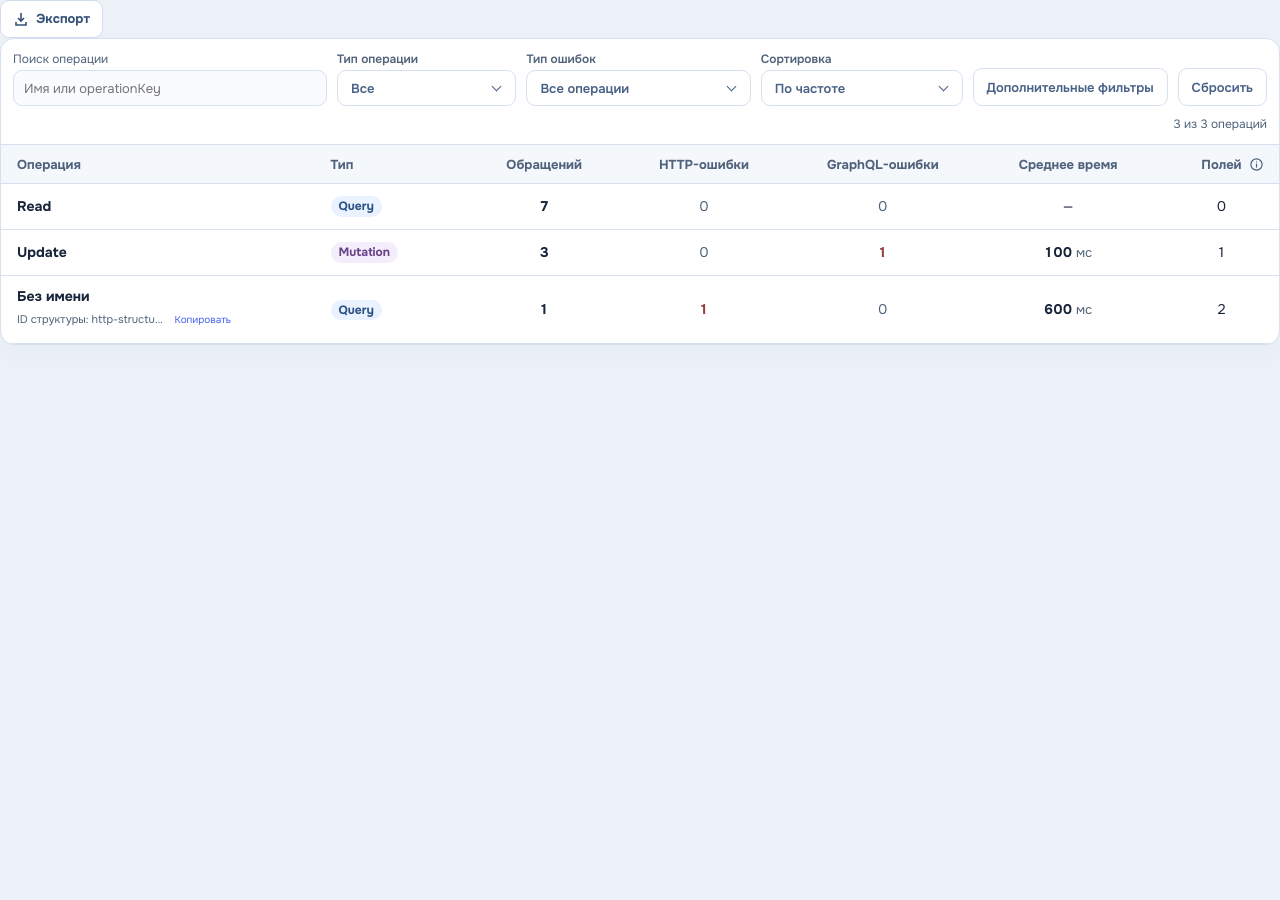
blocks incompatible filtered exports, explains the limitation and permits unfiltered exports
Click the dropdown labelled "Все операции" at (639, 88), box [526,70,751,106]
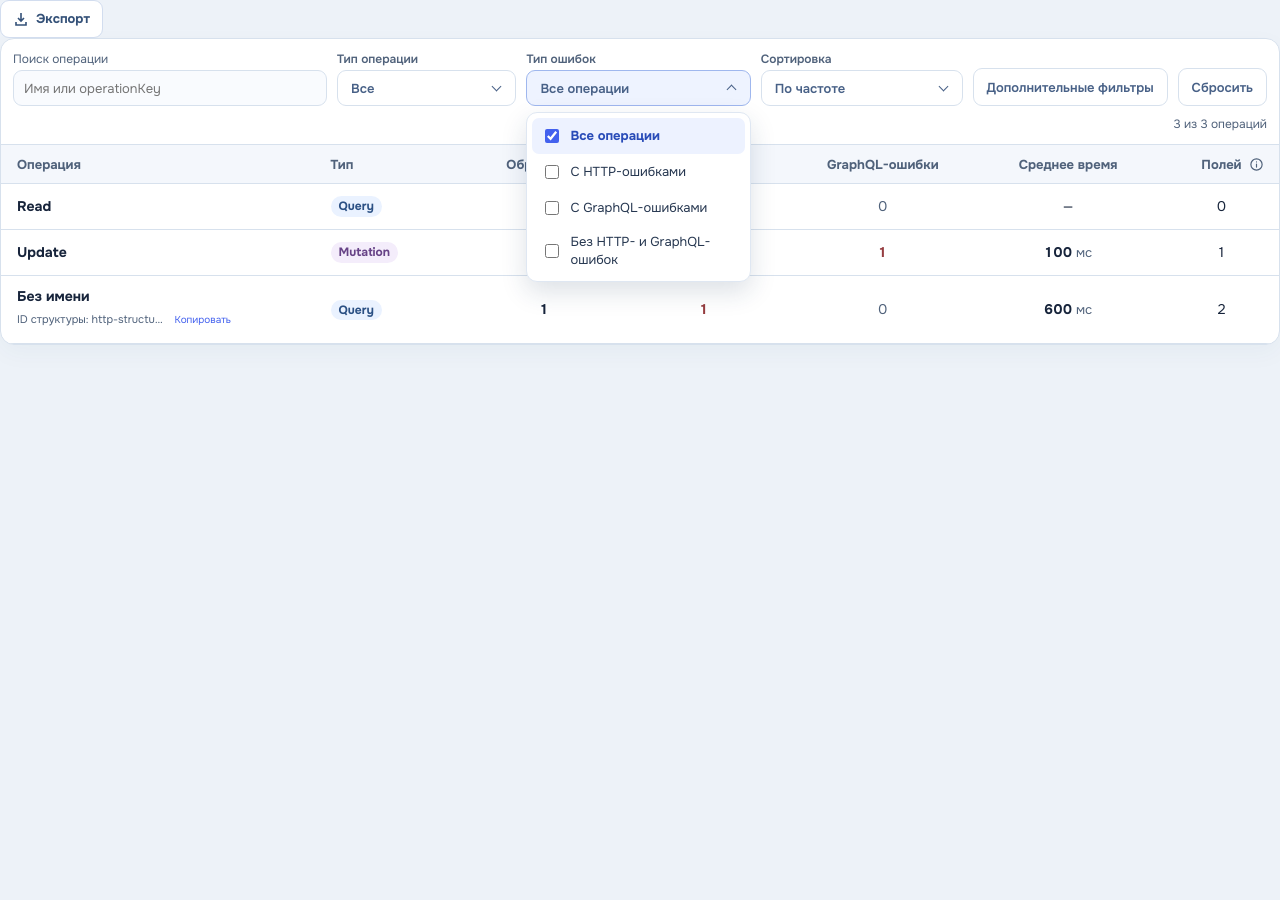
Click the option "С HTTP-ошибками" at (616, 171), box [545,163,686,180]
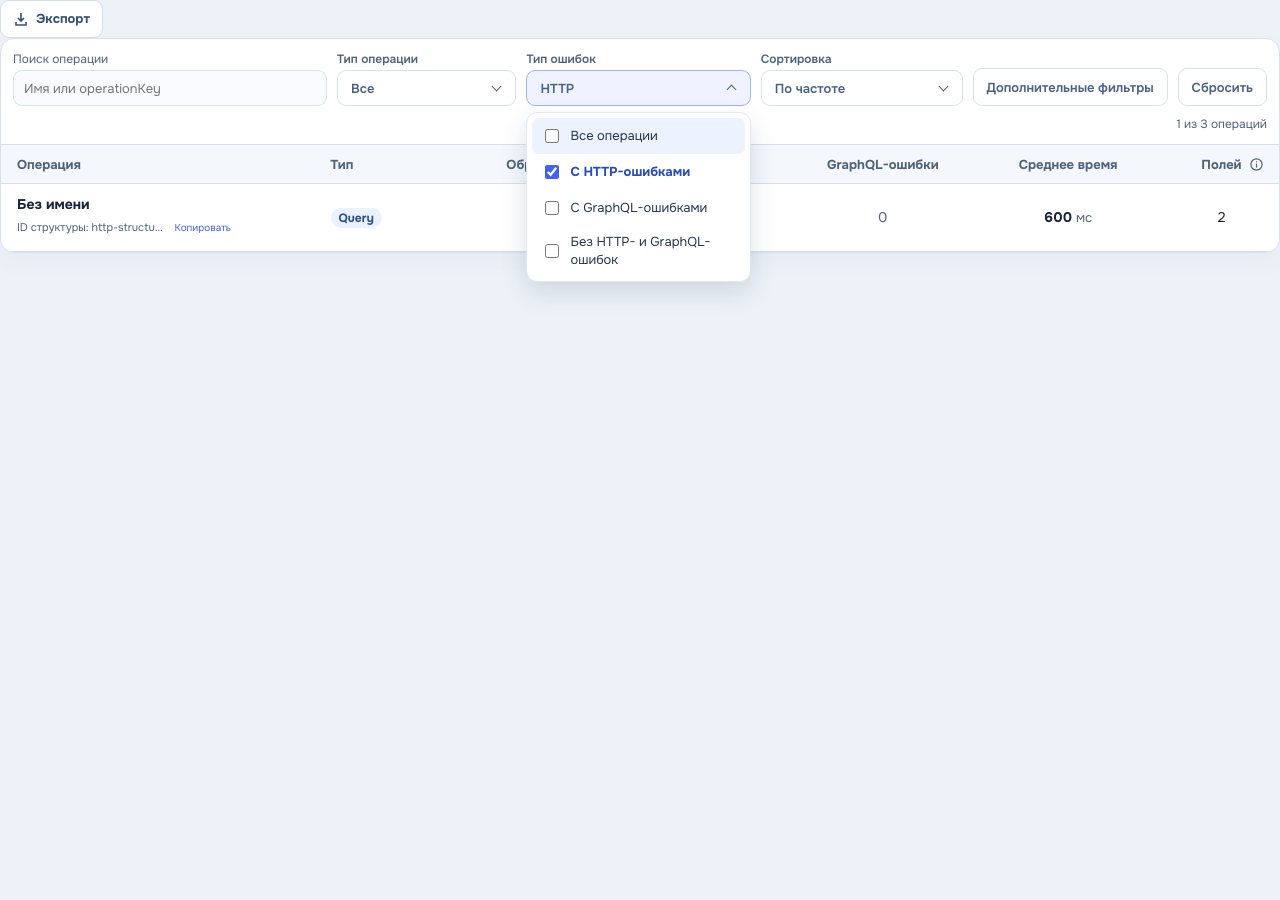
Press Escape in the dropdown labelled "HTTP", box [526,70,751,106]
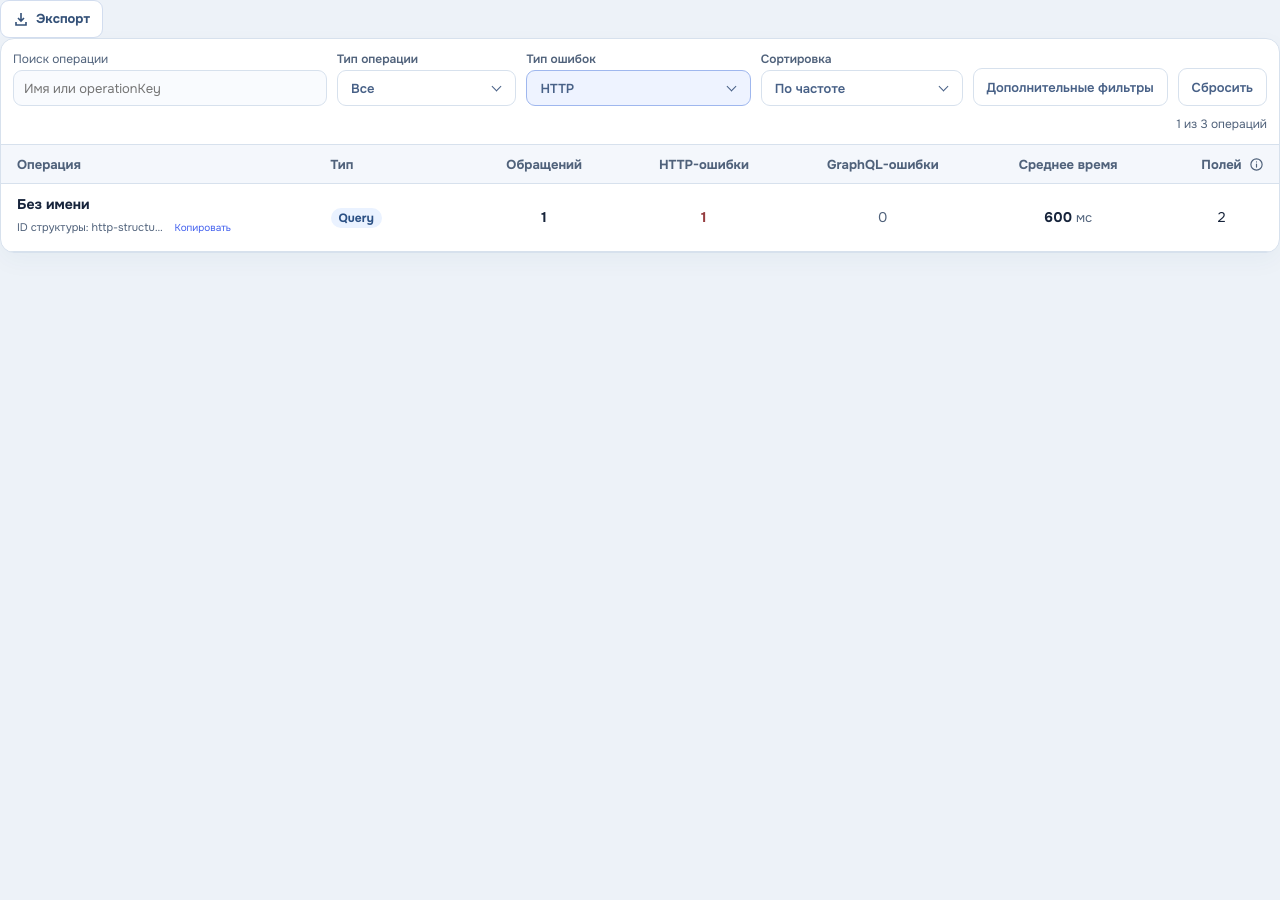
Click the button "Экспорт" at (51, 19), box [0,0,103,38]
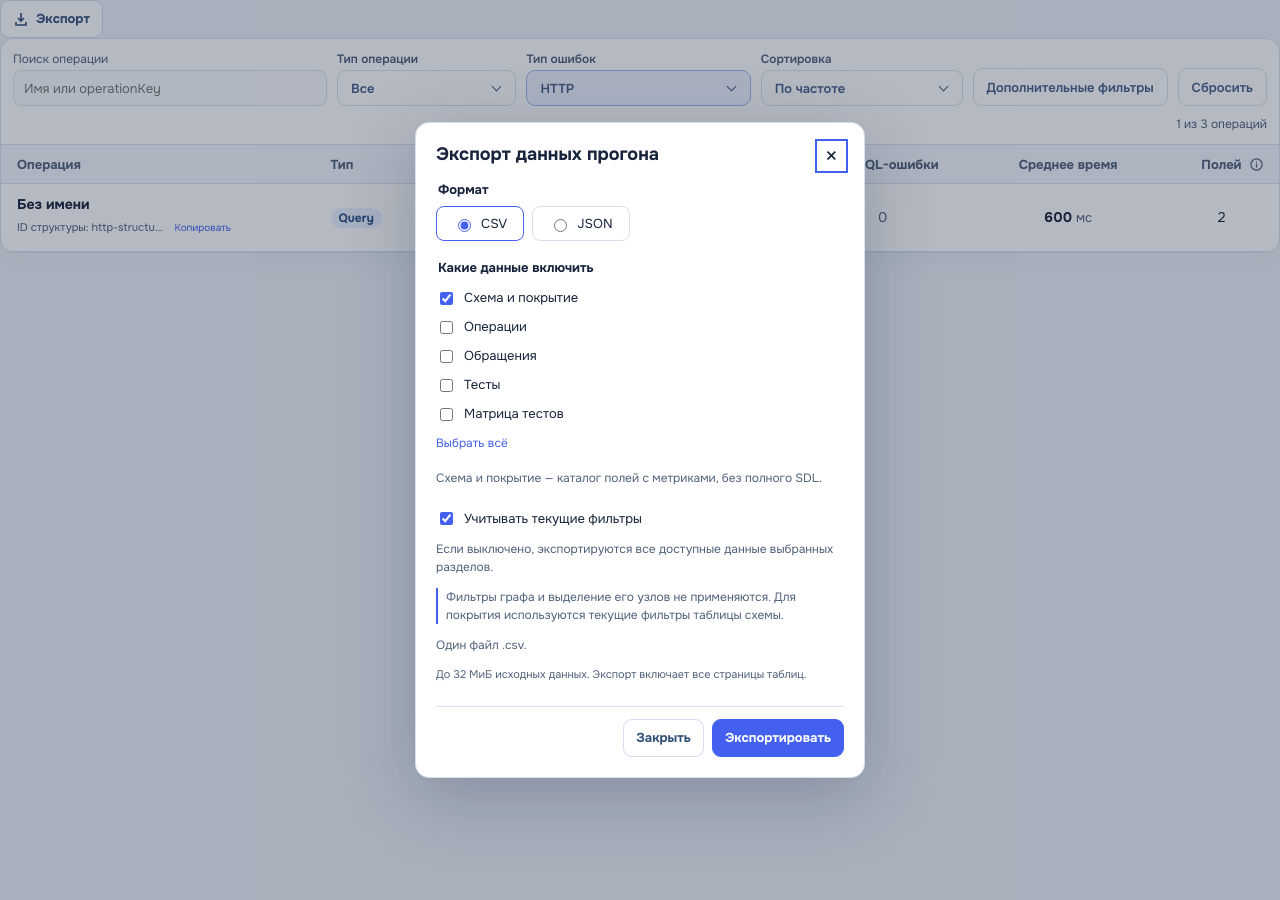
Click the checkbox labelled "Операции" at (446, 328), box [440,321,453,334]
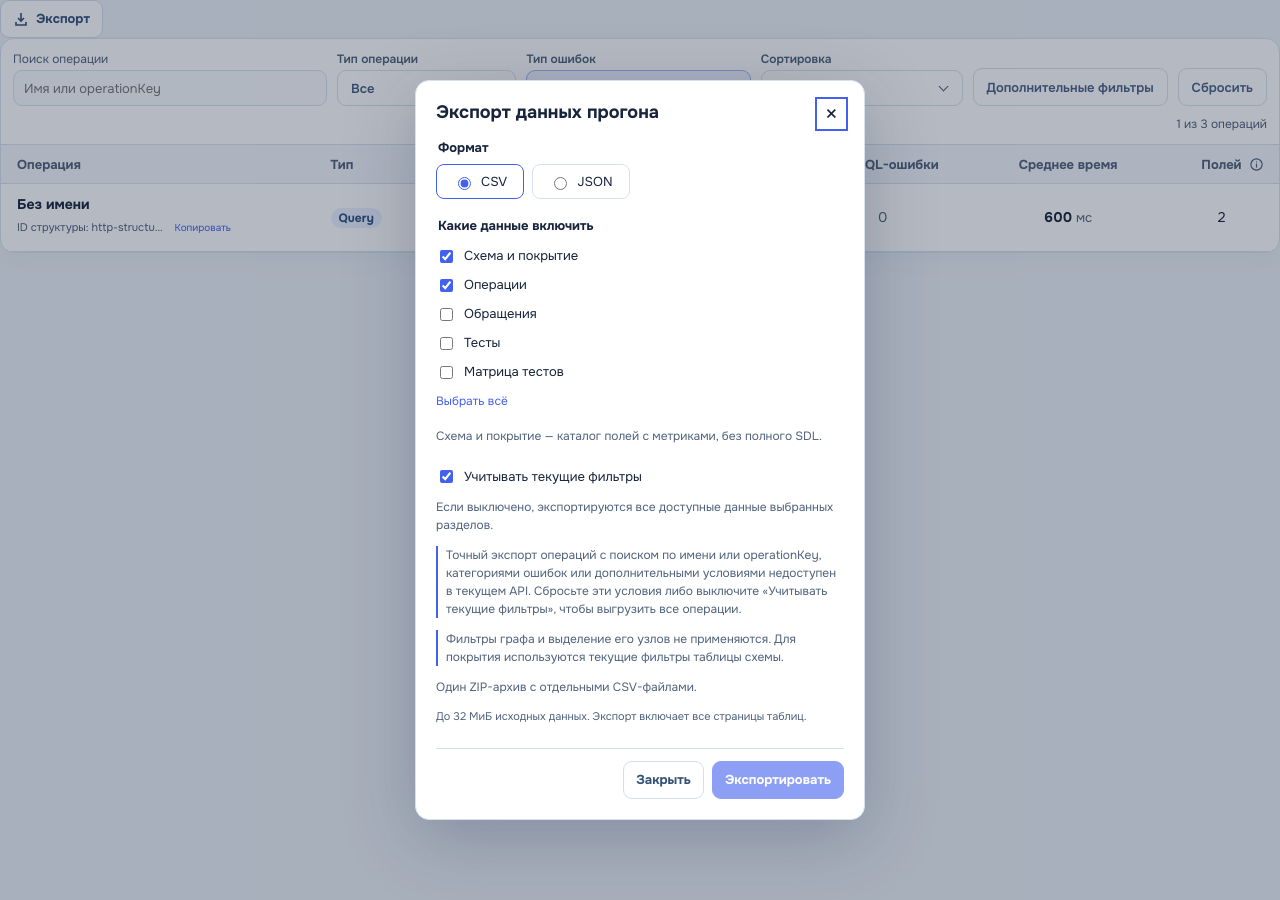
Result: the button "Экспортировать" is disabled at [712,761,844,799]
Result: the text with class "export-note" shows "Точный экспорт операций" at [446,547,836,617]
Click the checkbox labelled "Учитывать текущие фильтры" at (446, 477), box [440,470,453,483]
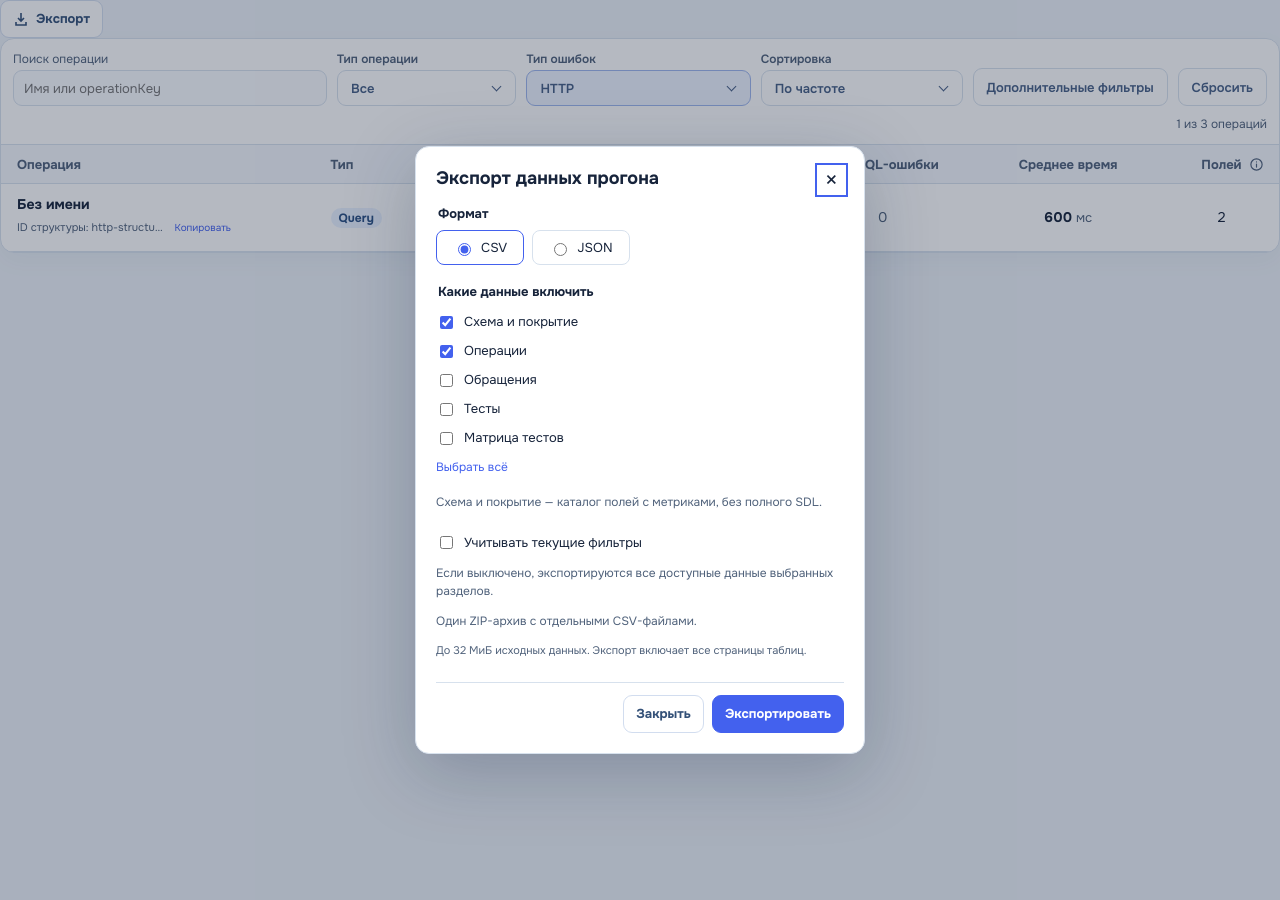
Result: the button "Экспортировать" is enabled at [712,695,844,733]
